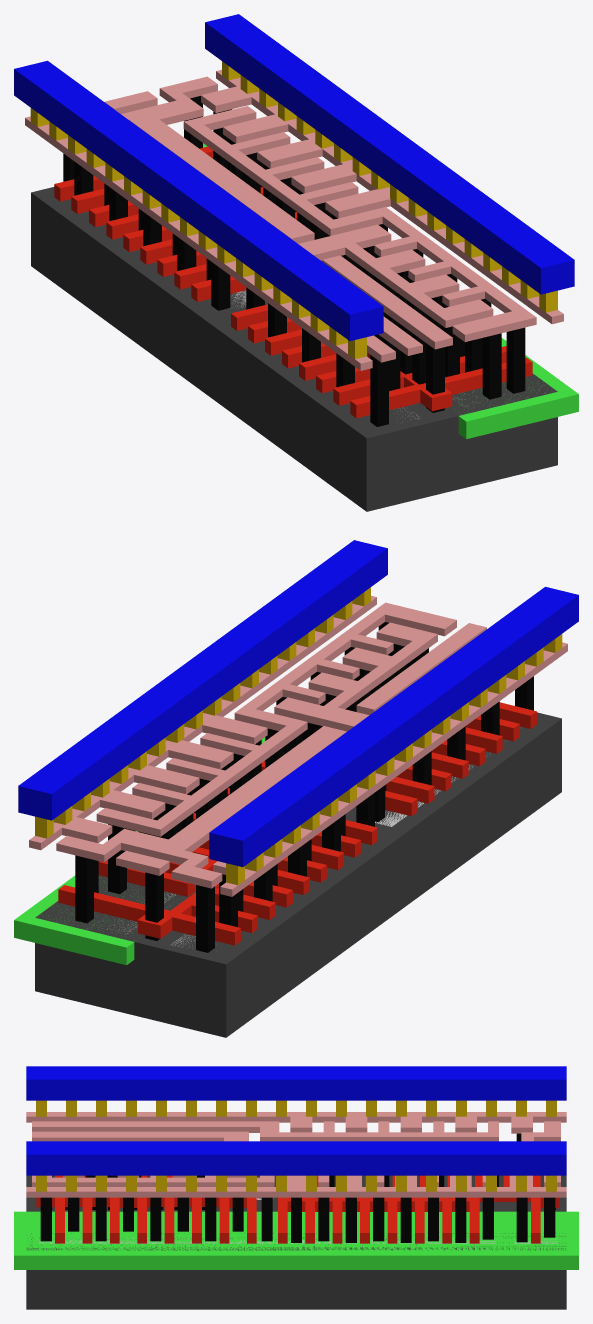
Rendered from sky130_fd_sc_hd__einvp_8.obj.
3 views of the same model, one above another, from view 1: azimuth 30°, elevation 25°; view 2: azimuth 150°, elevation 25°; view 3: azimuth 270°, elevation 25° (orthographic). The views are drawn at different scales.
Parts seen in each view (by area): view 1: subs, metal1, li, licon, poly, mcon, nwell; view 2: subs, metal1, li, poly, licon, mcon, nwell; view 3: metal1, subs, nwell, li, poly, licon, mcon, tap.
Part boxes in pixels (x1,y1,x2,y2): subs: (31,187,557,511); metal1: (14,14,574,341); li: (25,69,563,370); licon: (63,96,525,426); poly: (54,146,532,418); mcon: (30,61,557,359); nwell: (203,143,578,439); subs: (35,712,561,1037); metal1: (18,540,578,867); li: (29,595,567,896); poly: (58,702,536,945); licon: (75,622,533,952); mcon: (35,587,562,885); nwell: (14,737,265,965); metal1: (26,1066,566,1175); subs: (26,1175,566,1309); nwell: (14,1211,578,1269); li: (26,1112,566,1197); poly: (36,1175,559,1243); licon: (40,1133,555,1242); mcon: (36,1100,556,1191); tap: (38,1233,557,1243).
Bounding box in the file's own units: 3.2 × 2.74 × 8.66.
